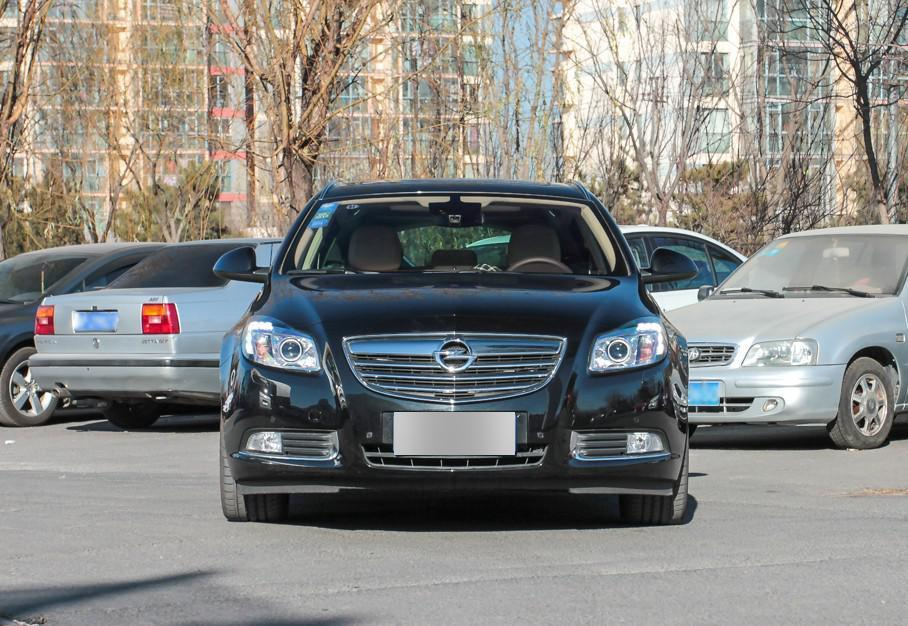Wagon: (213, 180, 700, 522)
